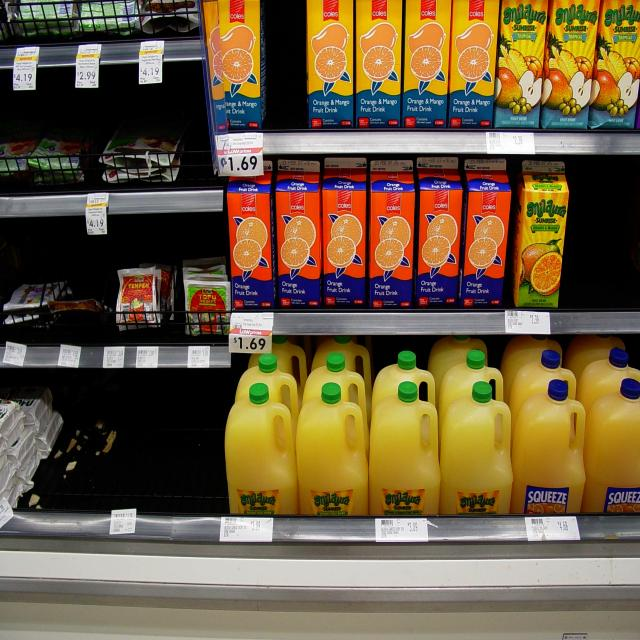empty_space: (107, 386, 217, 511), (576, 170, 640, 300), (269, 3, 303, 119)
